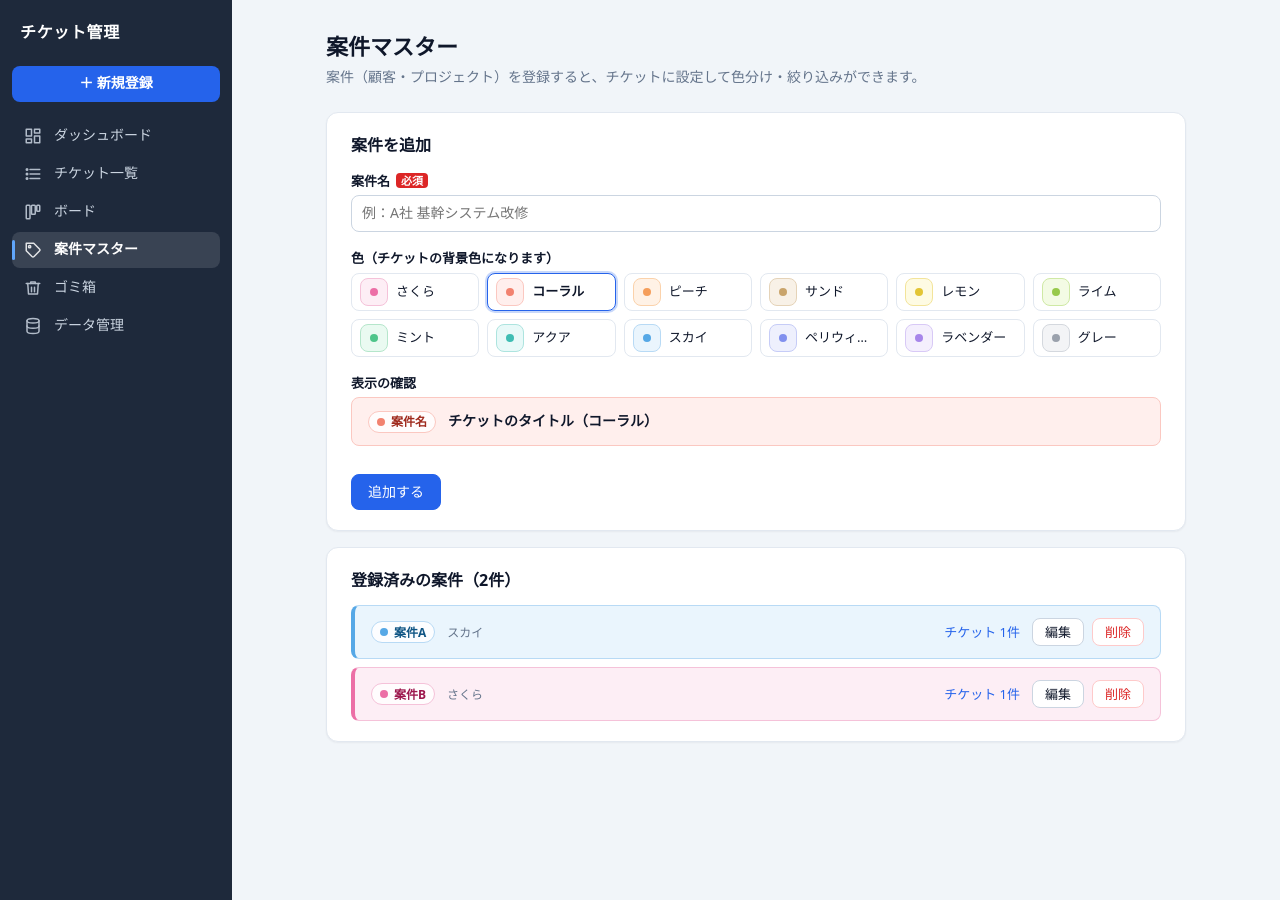
案件マスター › 使用中の案件を削除すると確認し、チケットは「案件なし」になる（チケット自体は残る）
Click the button with aria-label "案件「案件A」を削除" at [1118, 632], box [1092, 618, 1144, 646]
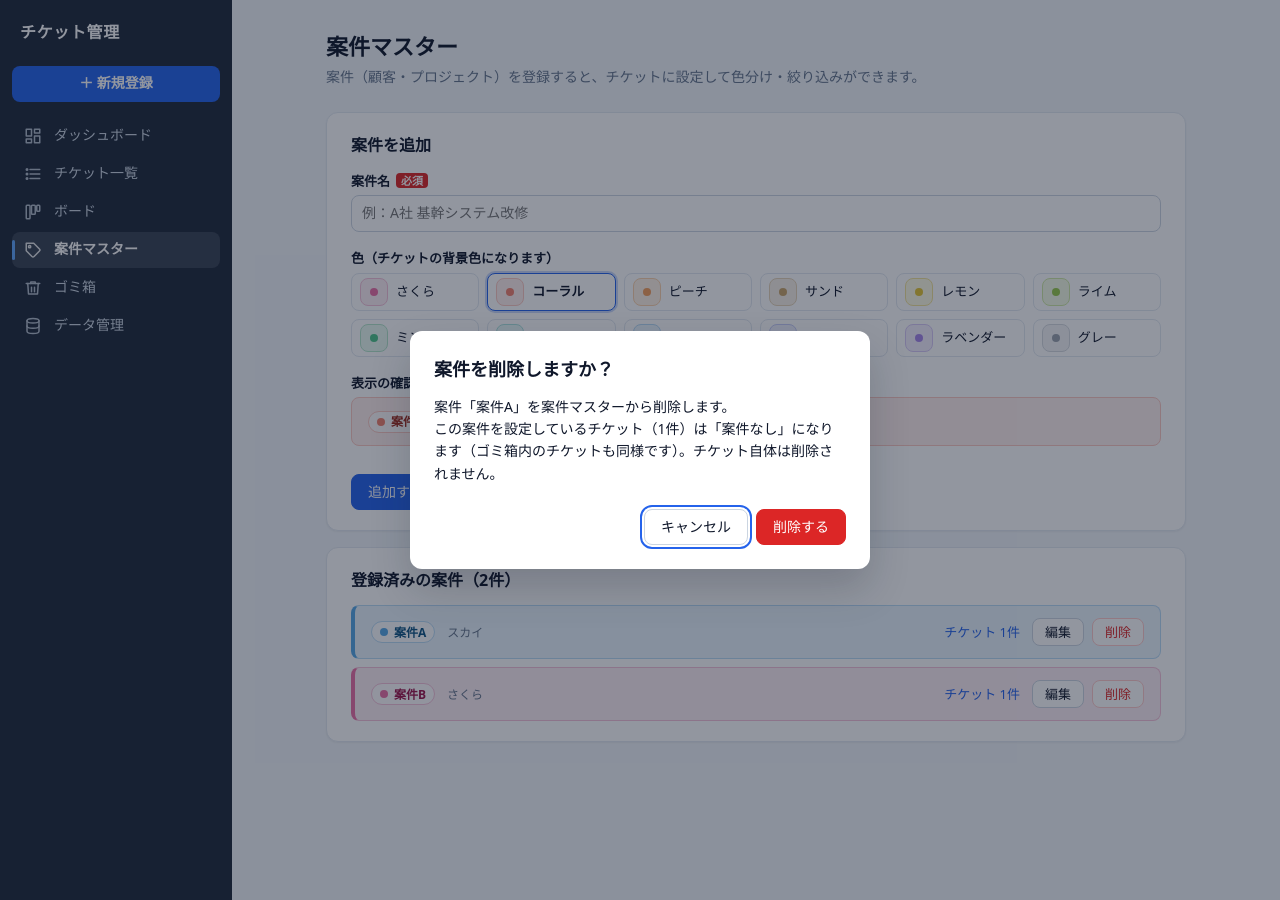
Expected: the text "チケット（1件）は「案件なし」になります" is shown, [434, 419, 834, 483]
Click the button "削除する" at [801, 527], box [756, 509, 846, 545]
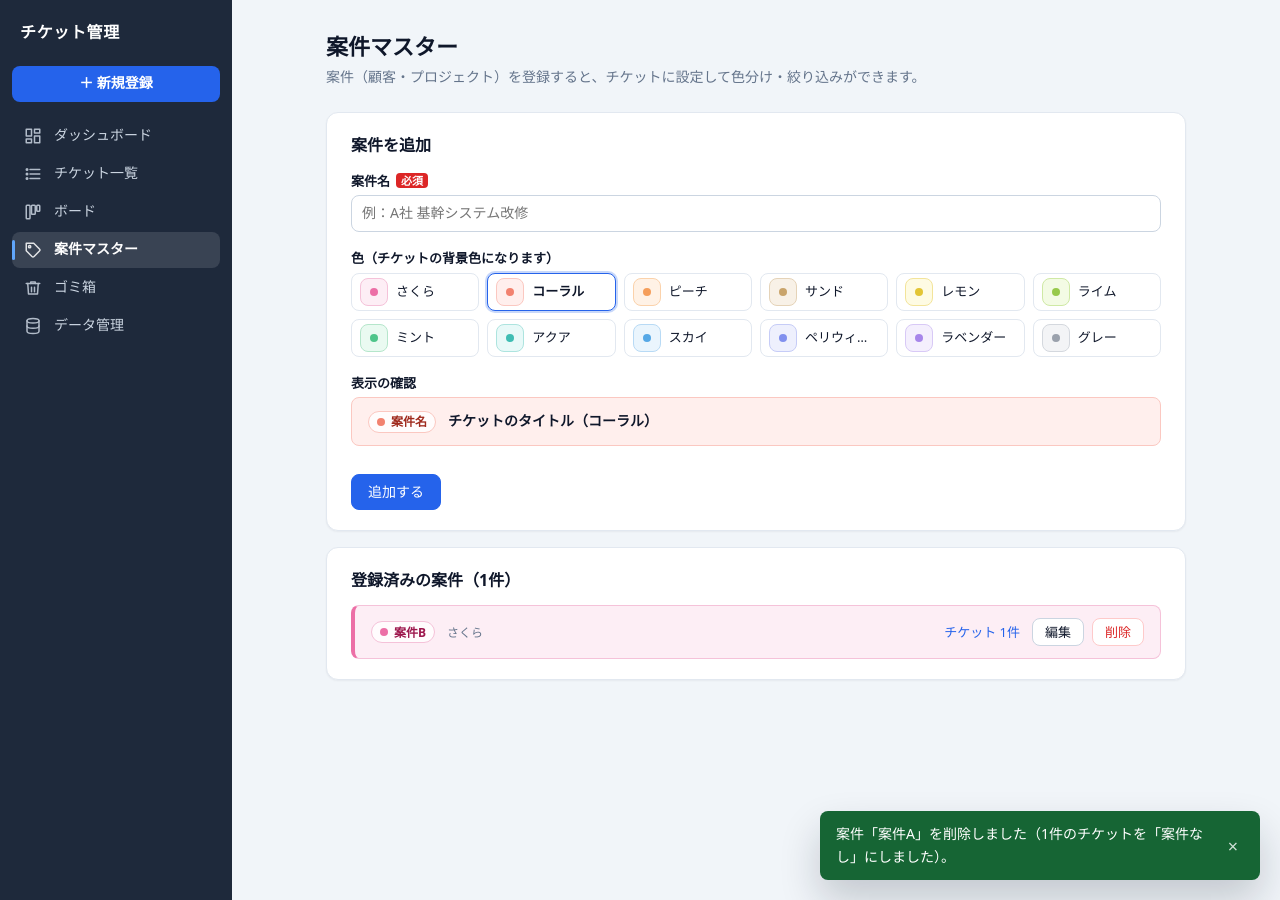
Expected: the text "案件「案件A」を削除しました（1件のチケットを「案件なし」にしました）。" is shown, [836, 823, 1210, 868]
